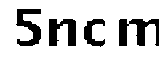5: (11, 5, 44, 50)
c: (82, 17, 109, 51)
m: (114, 14, 160, 53)
n: (47, 15, 77, 51)
